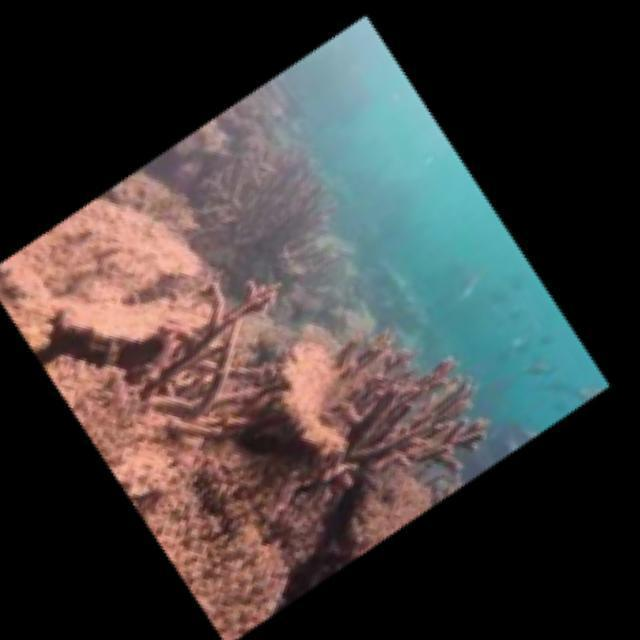Dead Coral: (112, 246, 533, 565)
